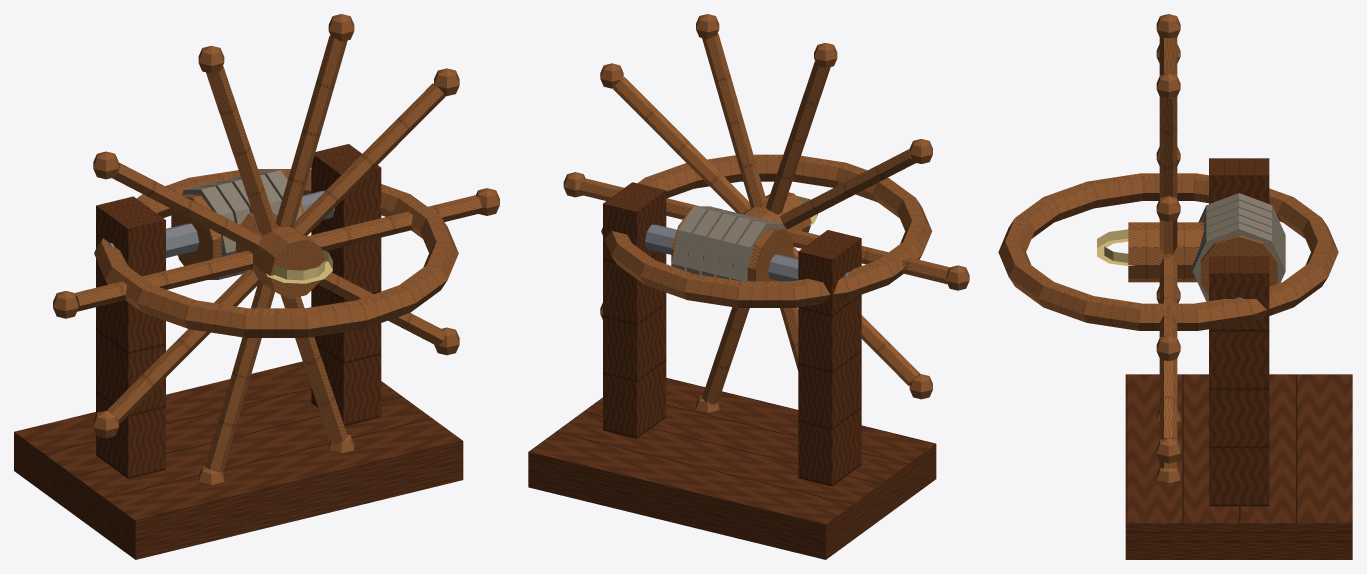
The model's file is ShipsWheel.glb.
3 views of the same model, side by side, from view 1: azimuth 30°, elevation 25°; view 2: azimuth 150°, elevation 25°; view 3: azimuth 270°, elevation 25° (orthographic). The views are drawn at different scales.
Visible parts, largest first — view 1: ships-wheel, wheel/deck, wheel/brass; view 2: ships-wheel, wheel/deck; view 3: ships-wheel, wheel/deck, wheel/brass.
Part boxes in pixels (left/top/right/bottom): ships-wheel: left=14, top=144, right=463, bottom=559; wheel/deck: left=53, top=14, right=499, bottom=485; wheel/brass: left=266, top=249, right=332, bottom=283; ships-wheel: left=528, top=182, right=936, bottom=559; wheel/deck: left=563, top=14, right=969, bottom=413; ships-wheel: left=1125, top=158, right=1352, bottom=559; wheel/deck: left=998, top=14, right=1338, bottom=483; wheel/brass: left=1097, top=229, right=1134, bottom=265.
Bounding box in the file's own units: 1.91 × 1.93 × 1.4.
Materials: 5 (2 with a texture image).
